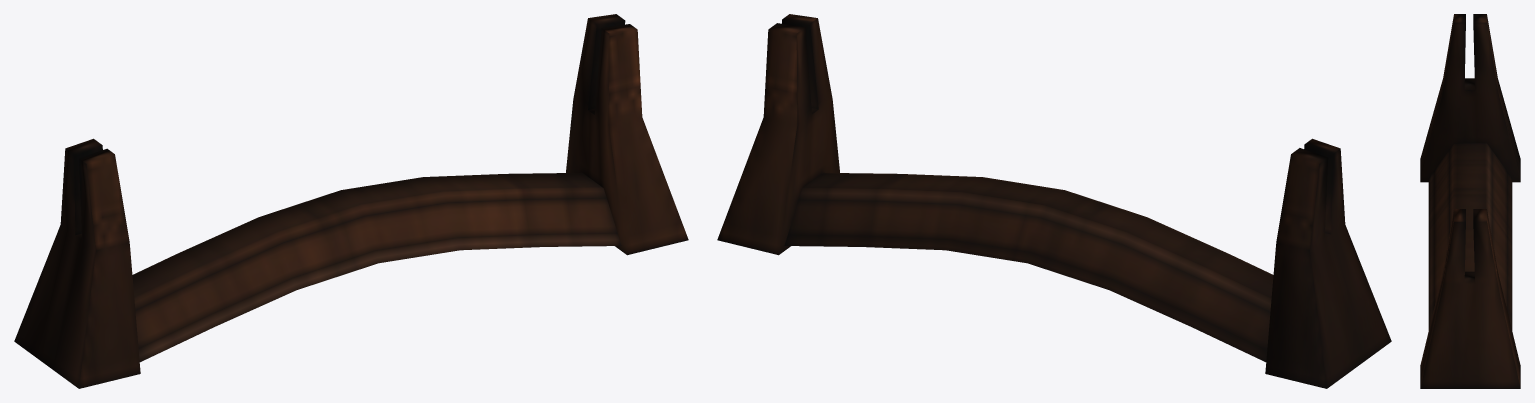
The model's file is sword stand.fbx.
The picture shows the model from 3 angles, left to right: view 1: azimuth 30°, elevation 25°; view 2: azimuth 150°, elevation 25°; view 3: azimuth 270°, elevation 25°; orthographic projection. The views are drawn at different scales.
Visible parts, largest first — view 1: Front_table.005; view 2: Front_table.005; view 3: Front_table.005.
Boxes of the visible parts, bbox=[...] form: Front_table.005: bbox=[14, 14, 688, 388]; Front_table.005: bbox=[717, 14, 1391, 388]; Front_table.005: bbox=[1420, 14, 1520, 388].
Bounding box in the file's own units: 1.71 × 0.5478 × 0.3147.
